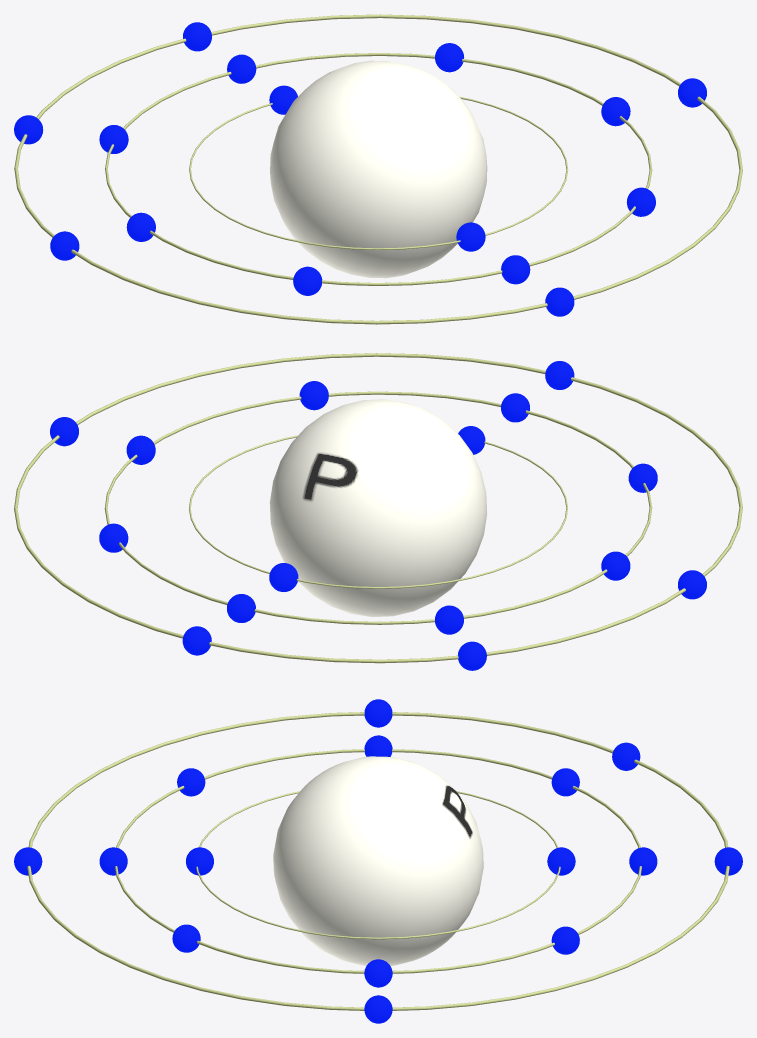
3 renders of one model, top to bottom at view 1: azimuth 30°, elevation 25°; view 2: azimuth 150°, elevation 25°; view 3: azimuth 270°, elevation 25°, orthographic. The views are drawn at different scales.
Visible parts, largest first — view 1: 球体, 贝塞尔圆环.002, 贝塞尔圆环.001, 贝塞尔圆环, 球体.004, 球体.012, 球体.008, 球体.009, 球体.002, 球体.007, 球体.003, 球体.013 (+7 smaller); view 2: 球体, 贝塞尔圆环.002, 贝塞尔圆环.001, 贝塞尔圆环, 球体.015, 球体.005, 球体.003, 球体.010, 球体.001, 球体.009, 球体.012, 球体.006 (+7 smaller); view 3: 球体, 贝塞尔圆环.002, 贝塞尔圆环.001, 贝塞尔圆环, 球体.013, 球体.014, 球体.011, 球体.010, 球体.001, 球体.002, 球体.008, 球体.009 (+6 smaller).
Part boxes in pixels (left/top/right/bottom): 球体: left=270, top=60, right=487, bottom=278; 贝塞尔圆环.002: left=14, top=14, right=742, bottom=324; 贝塞尔圆环.001: left=105, top=53, right=652, bottom=285; 贝塞尔圆环: left=189, top=97, right=567, bottom=249; 球体.004: left=456, top=222, right=485, bottom=251; 球体.012: left=545, top=287, right=574, bottom=316; 球体.008: left=293, top=266, right=322, bottom=295; 球体.009: left=501, top=255, right=530, bottom=284; 球体.002: left=435, top=43, right=464, bottom=72; 球体.007: left=227, top=54, right=256, bottom=83; 球体.003: left=183, top=22, right=211, bottom=51; 球体.013: left=50, top=231, right=79, bottom=260; 球体: left=269, top=399, right=487, bottom=617; 贝塞尔圆环.002: left=14, top=353, right=742, bottom=663; 贝塞尔圆环.001: left=104, top=391, right=652, bottom=624; 贝塞尔圆环: left=189, top=435, right=567, bottom=588; 球体.015: left=458, top=641, right=486, bottom=670; 球体.005: left=435, top=605, right=463, bottom=634; 球体.003: left=182, top=626, right=211, bottom=655; 球体.010: left=299, top=381, right=328, bottom=410; 球体.001: left=269, top=563, right=298, bottom=591; 球体.009: left=501, top=393, right=529, bottom=422; 球体.012: left=545, top=361, right=574, bottom=389; 球体.006: left=601, top=551, right=630, bottom=580; 球体: left=273, top=756, right=483, bottom=965; 贝塞尔圆环.002: left=27, top=712, right=729, bottom=1010; 贝塞尔圆环.001: left=115, top=749, right=641, bottom=973; 贝塞尔圆环: left=196, top=791, right=560, bottom=939; 球体.013: left=364, top=699, right=392, bottom=727; 球体.014: left=364, top=995, right=392, bottom=1023; 球体.011: left=364, top=959, right=392, bottom=987; 球体.010: left=172, top=924, right=200, bottom=952; 球体.001: left=547, top=847, right=575, bottom=875; 球体.002: left=551, top=926, right=579, bottom=954; 球体.008: left=177, top=768, right=205, bottom=796; 球体.009: left=99, top=847, right=127, bottom=875.
Size of the model in its own units: 2.42 by 0.6996 by 2.42.
Materials: 7 (1 with a texture image).
